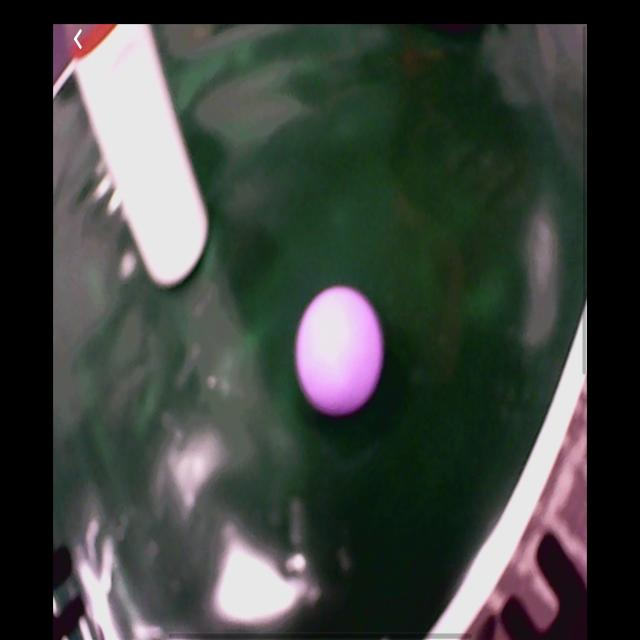ball: (295, 285, 383, 414)
